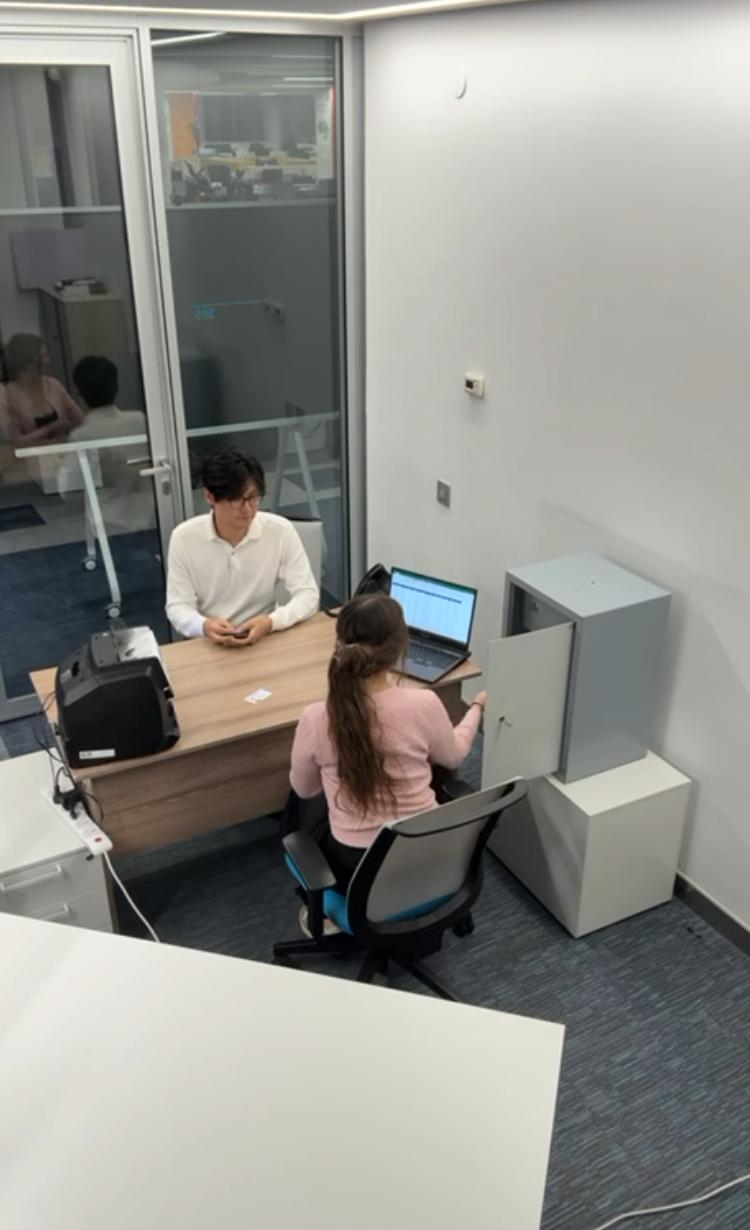counter: (51, 624, 181, 772)
document: (246, 686, 270, 708)
safe_open: (481, 550, 670, 783)
screen_on: (387, 567, 474, 654)
